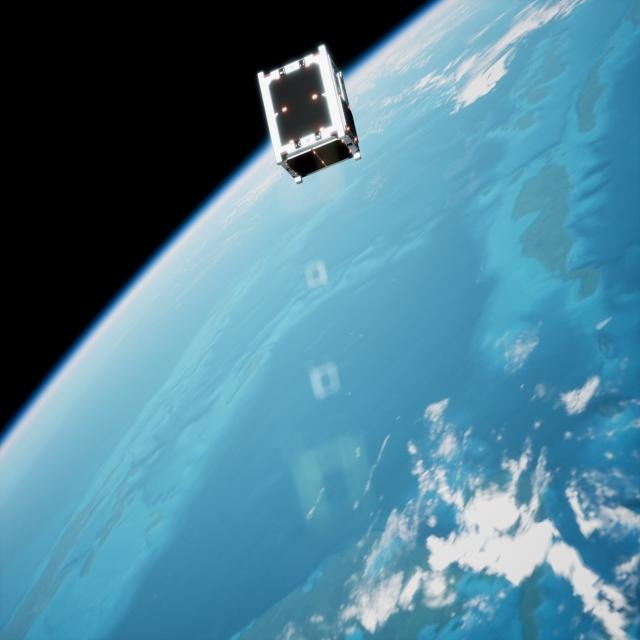satellite: (250, 36, 366, 184)
